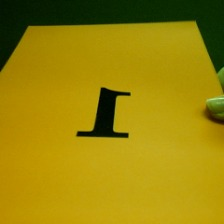orange1: (72, 83, 136, 144)
